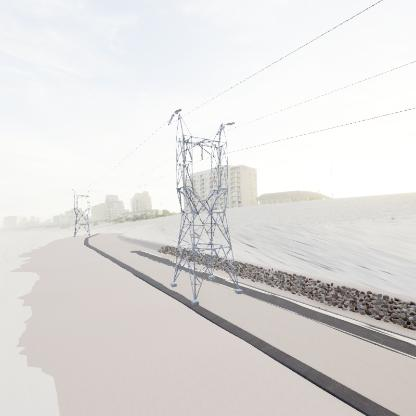tower: (164, 104, 247, 315), (70, 181, 96, 248)
